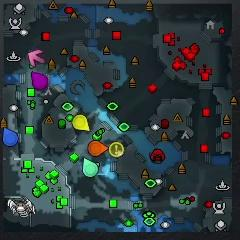Other: (109, 142, 124, 157)
p1: (3, 127, 19, 147)
p2: (84, 158, 98, 177)
p3: (31, 71, 48, 90)
p4: (71, 114, 89, 131)
p5: (89, 140, 108, 156)
x1: (29, 50, 44, 67)
